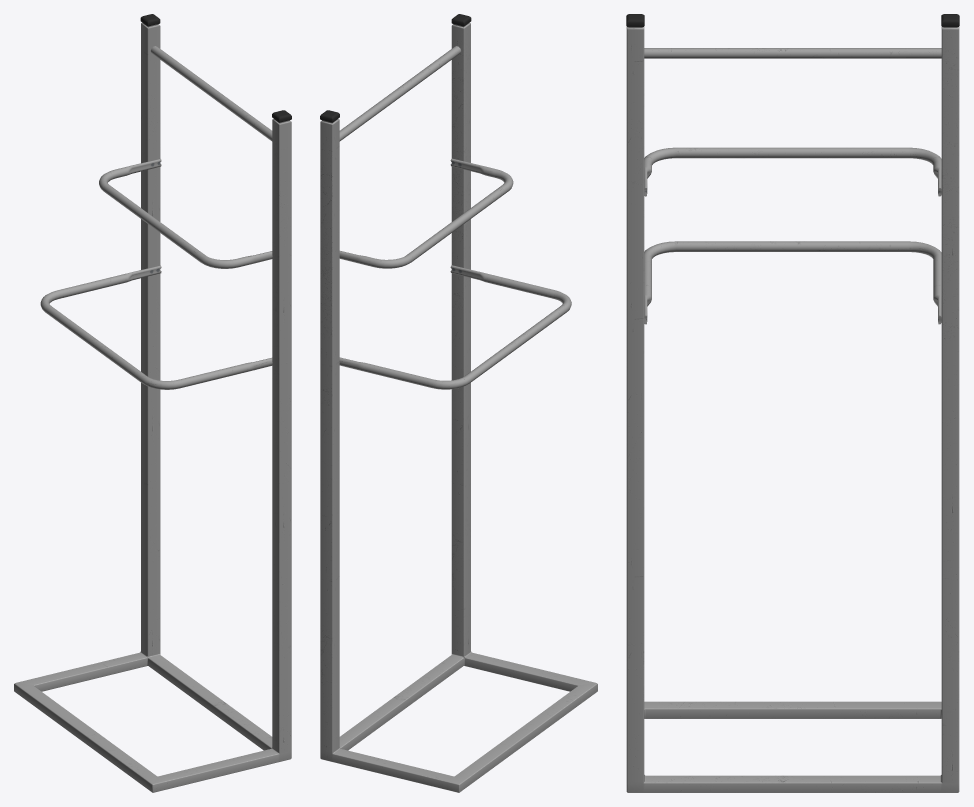
File: SM_UmbrellaStand.fbx
3 renders of one model, left to right at view 1: azimuth 30°, elevation 25°; view 2: azimuth 150°, elevation 25°; view 3: azimuth 270°, elevation 25°, orthographic. The views are drawn at different scales.
Visible parts, largest first — view 1: SM_UmbrellaStand_LOD0; view 2: SM_UmbrellaStand_LOD0; view 3: SM_UmbrellaStand_LOD0.
Boxes of the visible parts, x1=… form: SM_UmbrellaStand_LOD0: x1=14, y1=14, x2=291, y2=792; SM_UmbrellaStand_LOD0: x1=320, y1=14, x2=597, y2=792; SM_UmbrellaStand_LOD0: x1=626, y1=14, x2=959, y2=792.
Size of the model in its own units: 32.55 by 56.09 by 143.
Materials: 1 (1 with a texture image).
